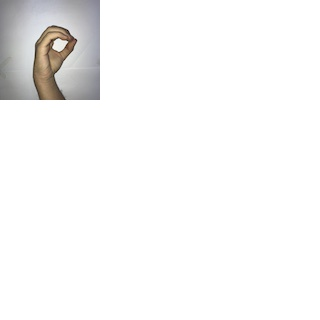rock: (30, 21, 78, 85)
